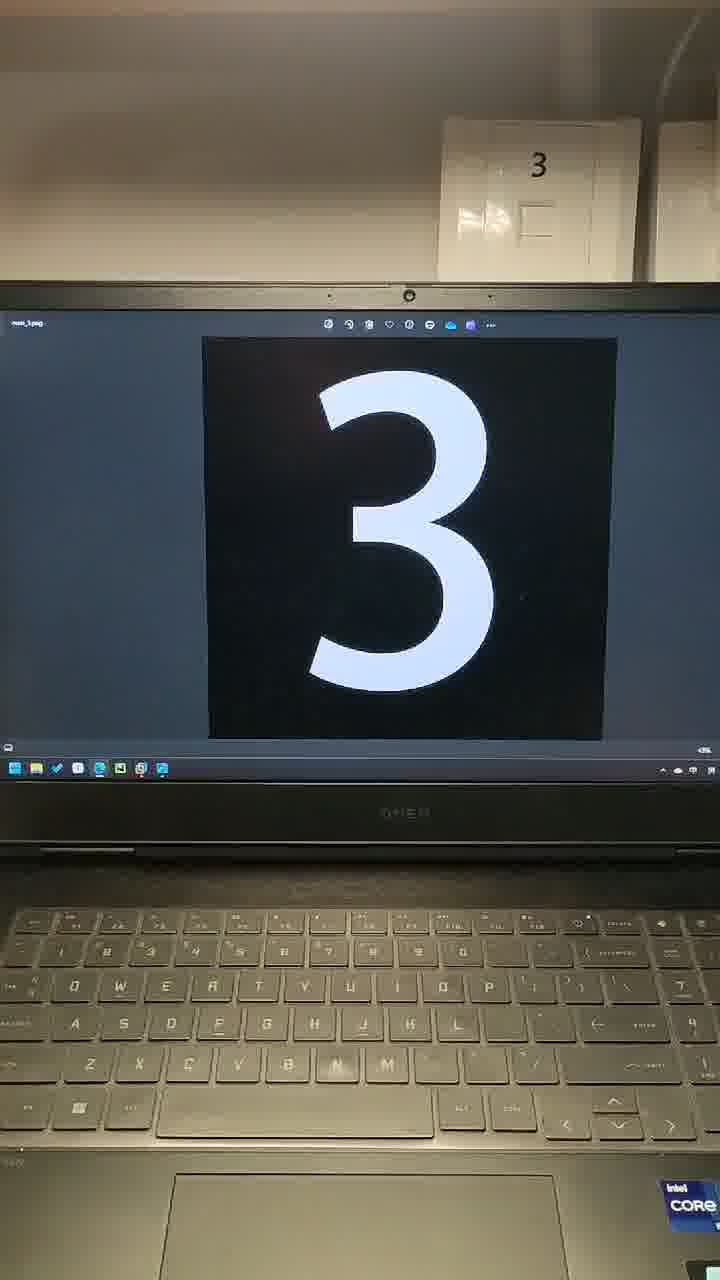three: (276, 323, 581, 797)
